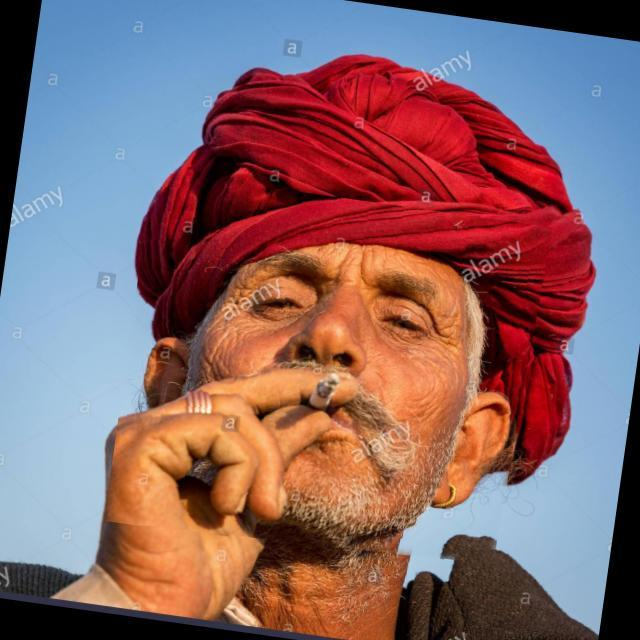cigarette: (287, 364, 360, 436)
